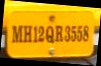character: (11, 24, 23, 43), (45, 24, 54, 42), (23, 25, 31, 43), (37, 25, 45, 42), (55, 25, 63, 41), (82, 24, 89, 42), (64, 25, 71, 42), (32, 25, 38, 43), (70, 24, 76, 41), (76, 25, 82, 41)
